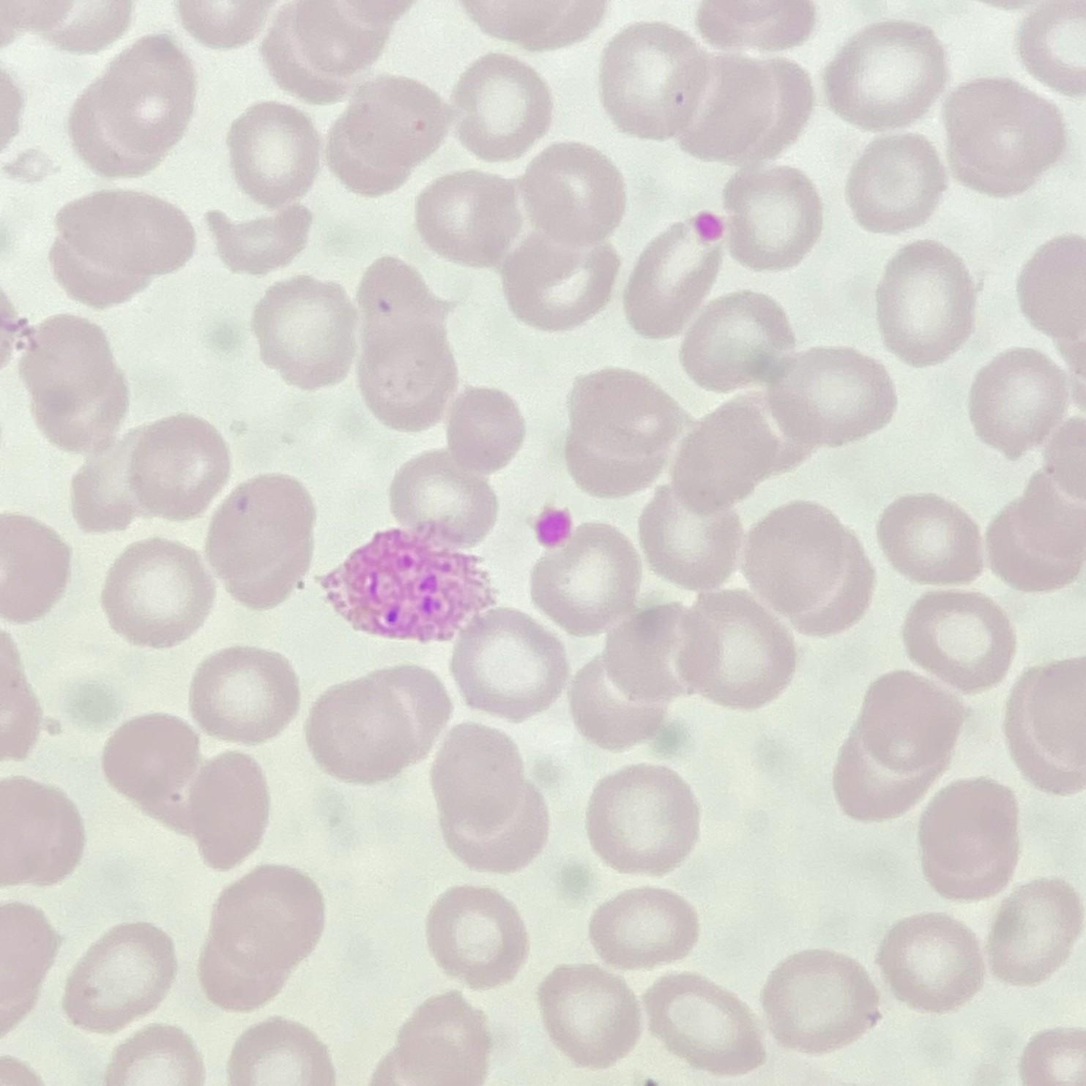Infected: (315, 522, 503, 645)
Uninfected: (203, 471, 315, 608), (943, 74, 1065, 197), (674, 594, 799, 712), (767, 339, 901, 447), (820, 23, 951, 131), (62, 919, 177, 1036), (454, 605, 569, 720), (760, 947, 881, 1056), (644, 971, 768, 1077), (498, 222, 617, 332), (734, 500, 853, 610), (597, 19, 702, 143), (209, 861, 324, 974), (626, 213, 730, 337), (103, 537, 218, 649), (335, 74, 457, 179), (586, 762, 699, 875), (531, 520, 645, 632), (873, 242, 974, 367), (53, 193, 198, 280), (254, 273, 361, 390), (666, 53, 778, 162), (681, 288, 799, 390), (564, 368, 690, 463), (302, 678, 410, 788), (901, 588, 1017, 689), (386, 442, 497, 547), (456, 53, 557, 168), (540, 962, 646, 1071), (719, 160, 824, 270), (602, 601, 717, 701), (417, 167, 528, 270), (97, 39, 194, 156), (970, 346, 1073, 455), (564, 647, 674, 749), (126, 412, 230, 519), (644, 478, 743, 589), (187, 645, 299, 743), (857, 669, 961, 774), (527, 141, 629, 248), (875, 910, 983, 1011), (427, 885, 528, 992), (831, 725, 939, 825), (432, 720, 526, 834), (844, 134, 947, 234), (985, 881, 1080, 988), (227, 103, 321, 209), (20, 317, 120, 414), (346, 661, 451, 753), (879, 495, 983, 586), (189, 751, 270, 866), (101, 713, 201, 806), (441, 788, 555, 869), (923, 775, 1023, 866), (591, 883, 700, 966), (0, 511, 71, 624), (443, 383, 526, 479), (227, 1016, 337, 1086), (110, 1015, 205, 1086), (1026, 660, 1086, 772)
